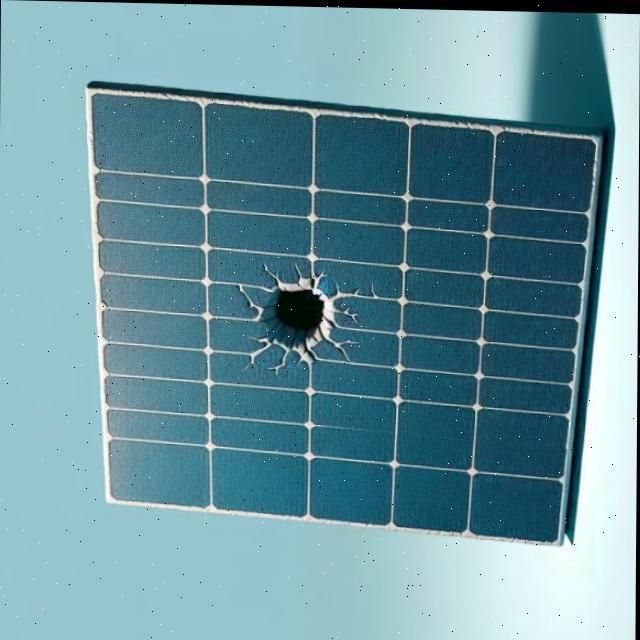Anomaly Solar Panel: (54, 89, 595, 545)
Structural Damage: (248, 266, 345, 371), (317, 329, 358, 365), (234, 340, 275, 373), (229, 281, 263, 318), (262, 347, 296, 381), (332, 305, 362, 325), (289, 258, 300, 278)
